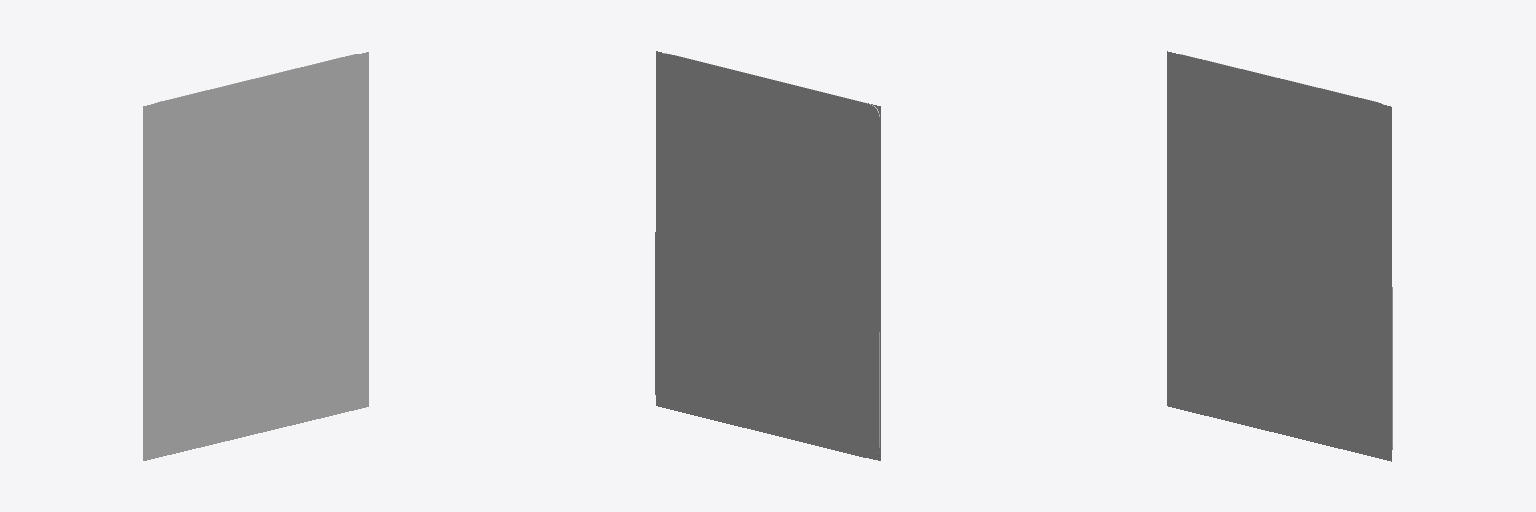
Rendered from carta.obj.
3 renders of one model, left to right at view 1: azimuth 30°, elevation 25°; view 2: azimuth 150°, elevation 25°; view 3: azimuth 330°, elevation 25°, orthographic.
Parts seen in each view (by area): view 1: mesh_id831; view 2: node_id50; view 3: mesh_id831.
Part boxes in pixels (bbox=[...]): mesh_id831: bbox=[143, 52, 368, 460]; node_id50: bbox=[655, 53, 879, 458]; mesh_id831: bbox=[1167, 51, 1391, 461].
Bounding box in the file's own units: 0.464 × 0.6986 × 0.004.